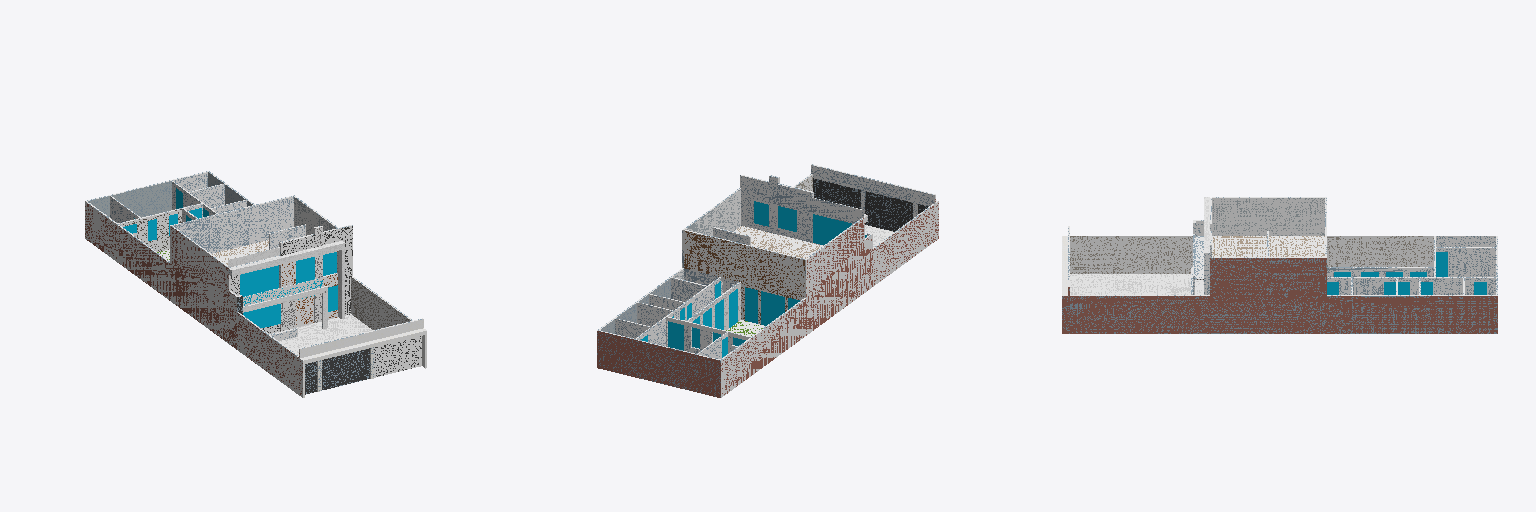
The model's file is House1 (1).obj.
3 renders of one model, left to right at view 1: azimuth 30°, elevation 25°; view 2: azimuth 150°, elevation 25°; view 3: azimuth 270°, elevation 25°, orthographic.
Visible parts, largest first — view 1: Mesh1 Model; view 2: Mesh1 Model; view 3: Mesh1 Model.
Part boxes in pixels (x1,y1,x2,y2): Mesh1 Model: (85, 171, 426, 397); Mesh1 Model: (597, 164, 938, 397); Mesh1 Model: (1062, 197, 1497, 333).
Size of the model in its own units: 10.01 by 7.31 by 30.51.